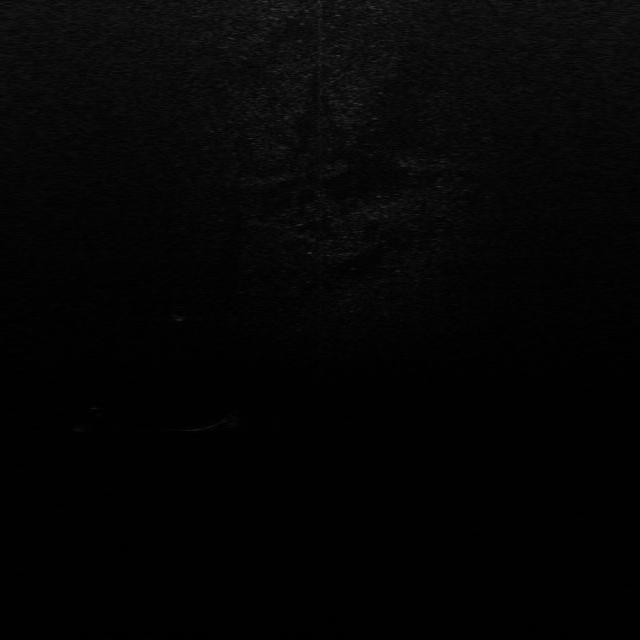ball: (214, 408, 250, 429)
circle cage: (168, 305, 194, 325)
tyre: (72, 404, 107, 432)
